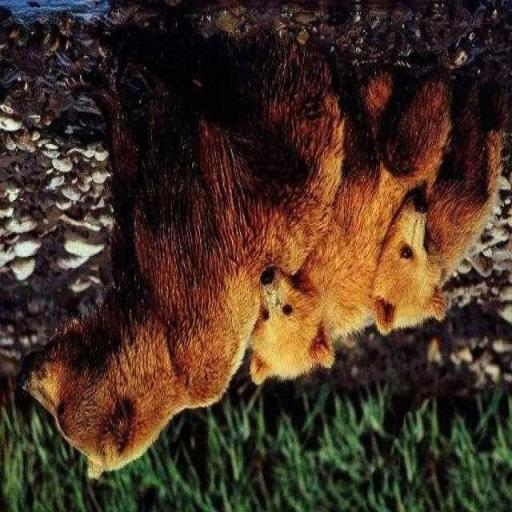Bear: (16, 3, 506, 480)
